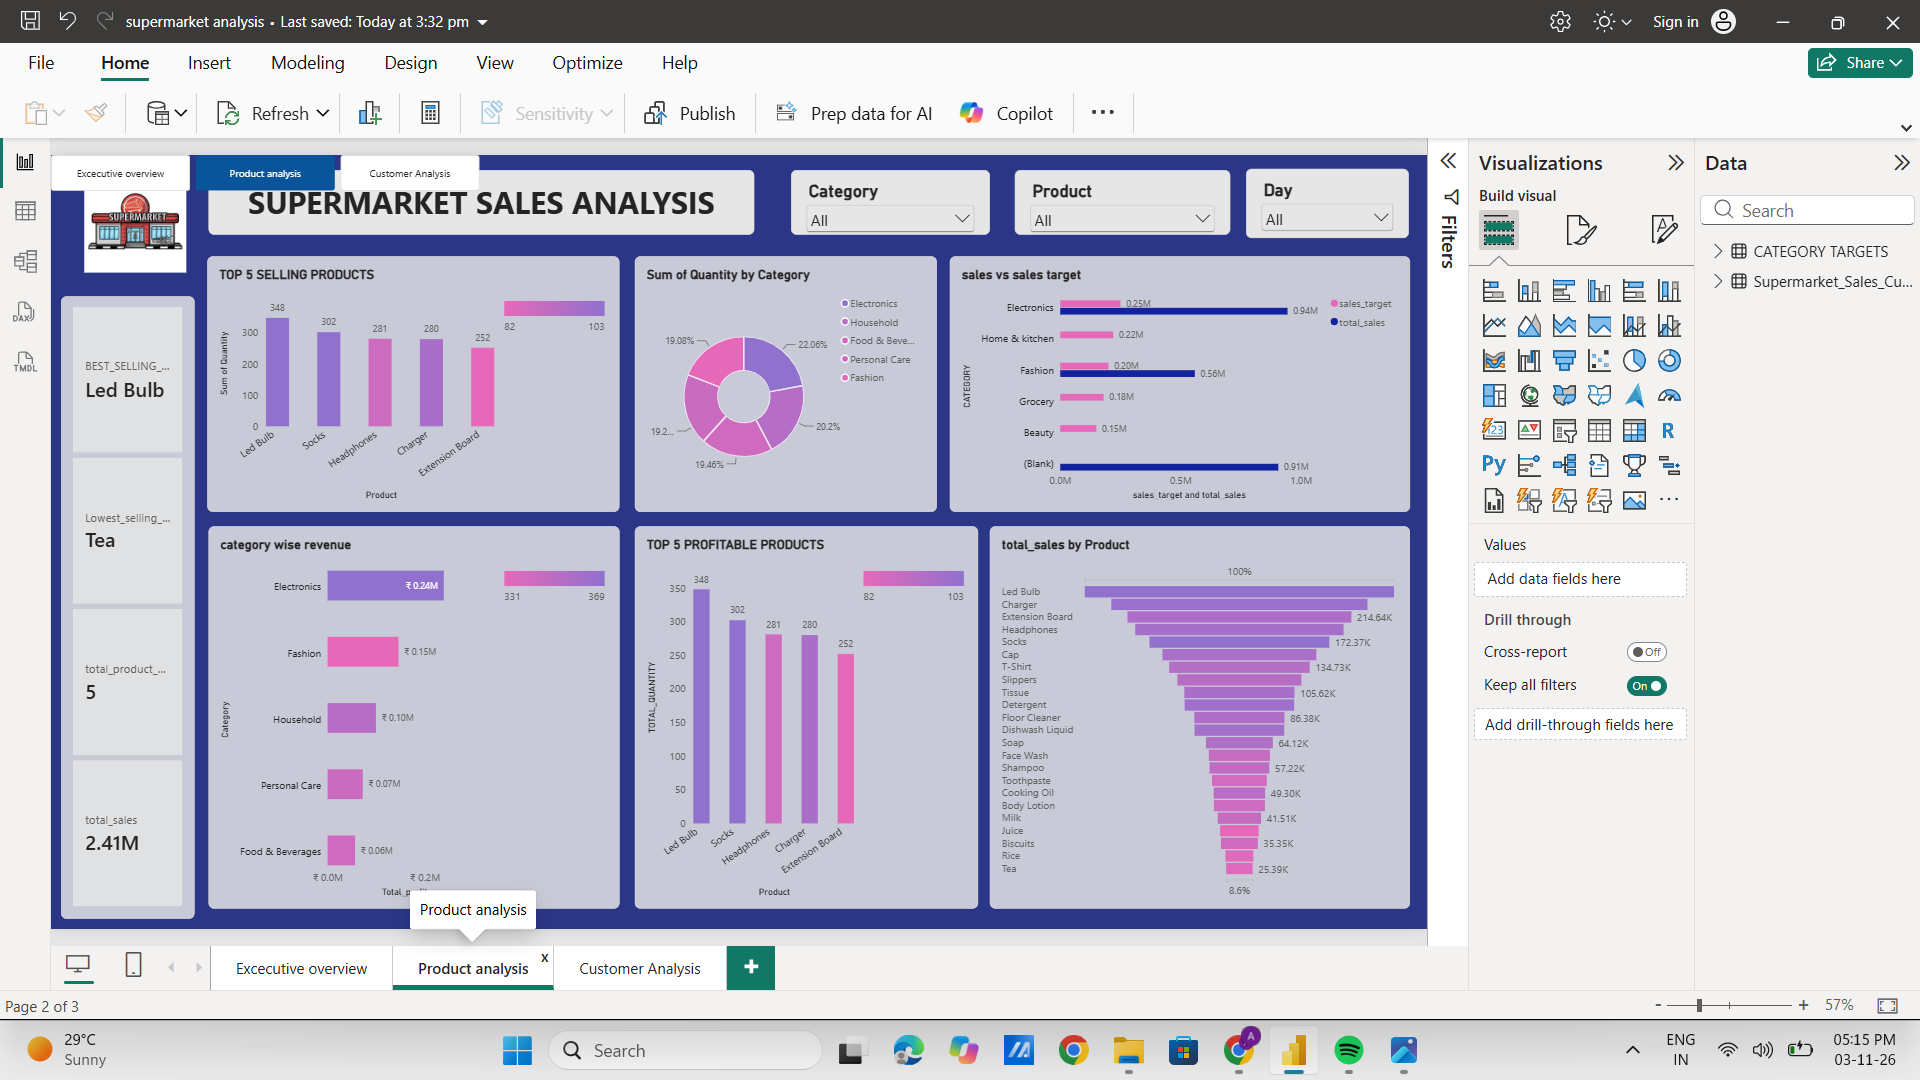

Layout of this report page (visuals, bound fields, positions):
{"tool":"powerbi","page":{"name":"Product analysis","canvas":[1920,1080],"ordinal":1},"visuals":[{"type":"image","box":[0,21.7,235.3,143],"z":0},{"type":"textbox","box":[219,21.7,761.9,90.5],"z":1000},{"type":"columnChart","title":"TOP 5 SELLING PRODUCTS","fields":{"Category":["Supermarket_Sales_Customer_Analysis_RAW (2).Product"],"Y":["Sum(Supermarket_Sales_Customer_Analysis_RAW (2).Quantity)"]},"box":[217.2,141.2,575.5,356.5],"z":2000},{"type":"clusteredBarChart","title":"category wise revenue ","fields":{"Category":["Supermarket_Sales_Customer_Analysis_RAW (2).Category"],"Y":["Supermarket_Sales_Customer_Analysis_RAW (2).Total_profit"]},"box":[219,517.6,573.7,533.8],"z":3000},{"type":"clusteredBarChart","title":"sales vs sales target ","fields":{"Category":["CATEGORY TARGETS.CATEGORY "],"Y":["CATEGORY TARGETS.sales_target","CATEGORY TARGETS.total_sales"]},"box":[1254.1,141.2,642.4,356.5],"z":4000},{"type":"cardVisual","fields":{"Data":["Supermarket_Sales_Customer_Analysis_RAW (2).BEST_SELLING_PRODUCT","Supermarket_Sales_Customer_Analysis_RAW (2).Lowest_selling_product","Supermarket_Sales_Customer_Analysis_RAW (2).total_product_category","CATEGORY TARGETS.total_sales"]},"box":[14.5,197.3,186.4,868.6],"z":5000},{"type":"slicer","fields":{"Values":["Supermarket_Sales_Customer_Analysis_RAW (2).Category"]},"box":[1032.8,21,277.7,90.4],"z":6000},{"type":"slicer","fields":{"Values":["Supermarket_Sales_Customer_Analysis_RAW (2).Product"]},"box":[1344.1,21,300.8,90.4],"z":7000},{"type":"slicer","fields":{"Values":["Supermarket_Sales_Customer_Analysis_RAW (2).Order_Date.Variation.Date Hierarchy.Day"]},"box":[1668,18.9,227.2,96.8],"z":8000},{"type":"clusteredColumnChart","title":"TOP 5 PROFITABLE PRODUCTS ","fields":{"Category":["Supermarket_Sales_Customer_Analysis_RAW (2).Product"],"Y":["Supermarket_Sales_Customer_Analysis_RAW (2).TOTAL_QUANTITY"]},"box":[814.3,517.6,479.6,533.8],"z":9000},{"type":"donutChart","fields":{"Category":["Supermarket_Sales_Customer_Analysis_RAW (2).Category"],"Y":["Sum(Supermarket_Sales_Customer_Analysis_RAW (2).Quantity)"]},"box":[814.3,141.2,421.7,356.5],"z":10000},{"type":"funnel","fields":{"Category":["Supermarket_Sales_Customer_Analysis_RAW (2).Product"],"Y":["CATEGORY TARGETS.total_sales"]},"box":[1310.2,517.6,586.3,533.8],"z":11000},{"type":"pageNavigator","box":[0,0,600,50],"z":12000}]}

Visuals, with their boxes on the page's 1920x1080 design canvas (x1, y1, x2, y2). These are canvas units, not pixel positions in the 1920x1080 screenshot, which may show the page scaled, cropped or inside an application window:
image: {"x1": 0, "y1": 22, "x2": 235, "y2": 165}
textbox: {"x1": 219, "y1": 22, "x2": 981, "y2": 112}
"TOP 5 SELLING PRODUCTS" columnChart: {"x1": 217, "y1": 141, "x2": 793, "y2": 498}
"category wise revenue " clusteredBarChart: {"x1": 219, "y1": 518, "x2": 793, "y2": 1051}
"sales vs sales target " clusteredBarChart: {"x1": 1254, "y1": 141, "x2": 1896, "y2": 498}
cardVisual - Supermarket_Sales_Customer_Analysis_RAW (2).BEST_SELLING_PRODUCT x Supermarket_Sales_Customer_Analysis_RAW (2).Lowest_selling_product: {"x1": 14, "y1": 197, "x2": 201, "y2": 1066}
slicer - Supermarket_Sales_Customer_Analysis_RAW (2).Category: {"x1": 1033, "y1": 21, "x2": 1310, "y2": 111}
slicer - Supermarket_Sales_Customer_Analysis_RAW (2).Product: {"x1": 1344, "y1": 21, "x2": 1645, "y2": 111}
slicer - Supermarket_Sales_Customer_Analysis_RAW (2).Order_Date.Variation.Date Hierarchy.Day: {"x1": 1668, "y1": 19, "x2": 1895, "y2": 116}
"TOP 5 PROFITABLE PRODUCTS " clusteredColumnChart: {"x1": 814, "y1": 518, "x2": 1294, "y2": 1051}
donutChart - Supermarket_Sales_Customer_Analysis_RAW (2).Category x Sum(Supermarket_Sales_Customer_Analysis_RAW (2).Quantity): {"x1": 814, "y1": 141, "x2": 1236, "y2": 498}
funnel - Supermarket_Sales_Customer_Analysis_RAW (2).Product x CATEGORY TARGETS.total_sales: {"x1": 1310, "y1": 518, "x2": 1896, "y2": 1051}
pageNavigator: {"x1": 0, "y1": 0, "x2": 600, "y2": 50}
